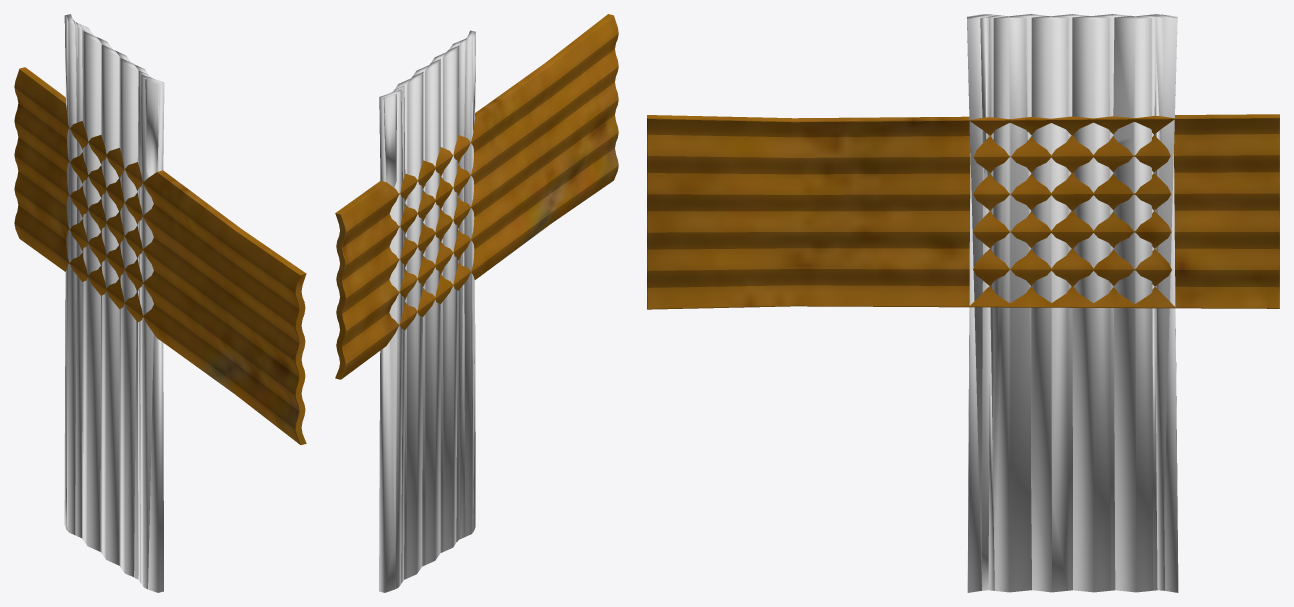
The model's file is SM_MetalPlate_04.fbx.
3 views of the same model, side by side, from view 1: azimuth 30°, elevation 25°; view 2: azimuth 150°, elevation 25°; view 3: azimuth 270°, elevation 25° (orthographic). The views are drawn at different scales.
Visible parts, largest first — view 1: SM_MetalPlate_04_ConvexHulls, SM_MetalPlate_04; view 2: SM_MetalPlate_04_ConvexHulls, SM_MetalPlate_04; view 3: SM_MetalPlate_04, SM_MetalPlate_04_ConvexHulls.
Part boxes in pixels (bbox=[...]): SM_MetalPlate_04_ConvexHulls: bbox=[64, 14, 164, 592]; SM_MetalPlate_04: bbox=[14, 67, 306, 444]; SM_MetalPlate_04_ConvexHulls: bbox=[379, 30, 475, 592]; SM_MetalPlate_04: bbox=[335, 14, 618, 379]; SM_MetalPlate_04: bbox=[647, 114, 1279, 309]; SM_MetalPlate_04_ConvexHulls: bbox=[966, 14, 1178, 592].
Size of the model in its own units: 0.0527 by 2.24 by 2.25.
